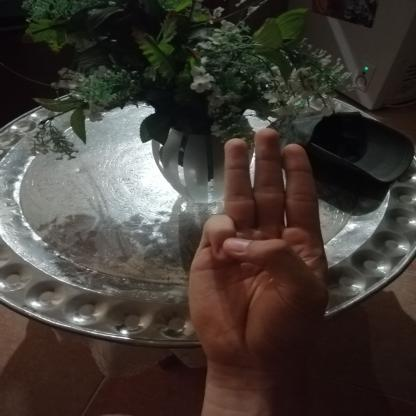THA: (166, 114, 344, 388)
